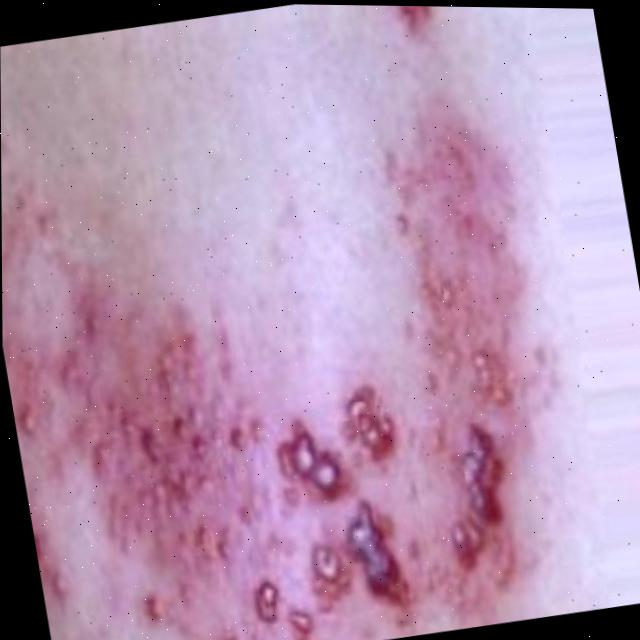Shingles: (26, 87, 581, 640)
